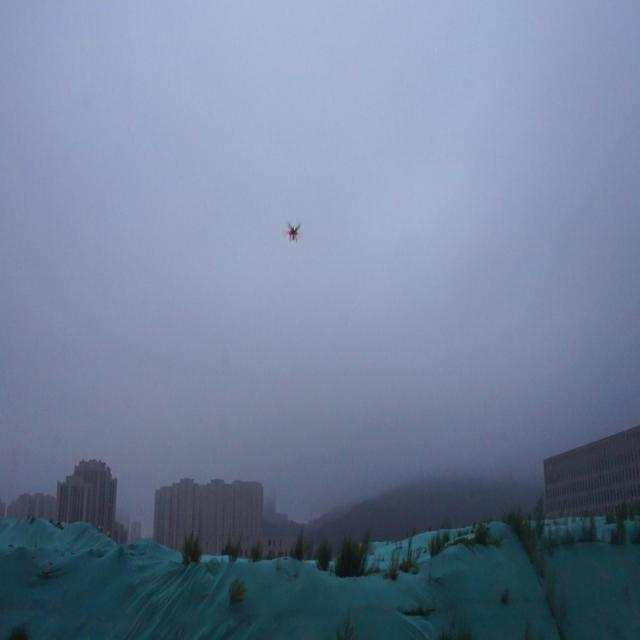UAV: (282, 222, 303, 243)
